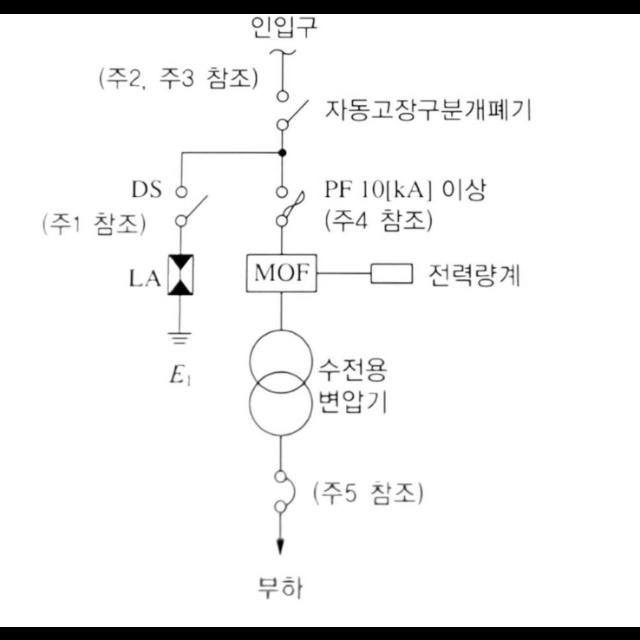GND: (166, 330, 194, 344)
LA: (169, 253, 193, 293)
MCCB: (274, 469, 296, 513)
MOF: (245, 252, 315, 290)
PF: (277, 187, 305, 226)
ds: (276, 90, 308, 130), (176, 186, 208, 224)
